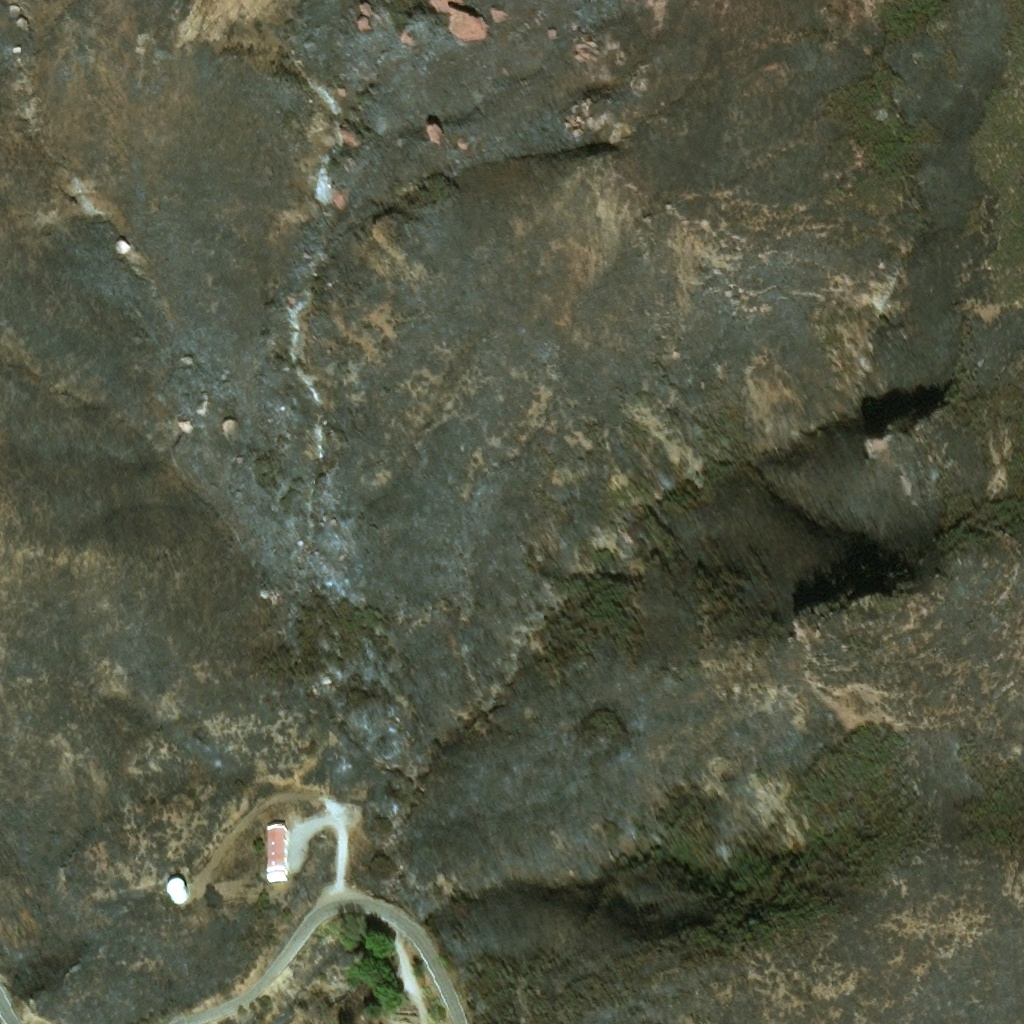0 no-damage: (269, 826, 292, 883), (173, 882, 195, 907)
